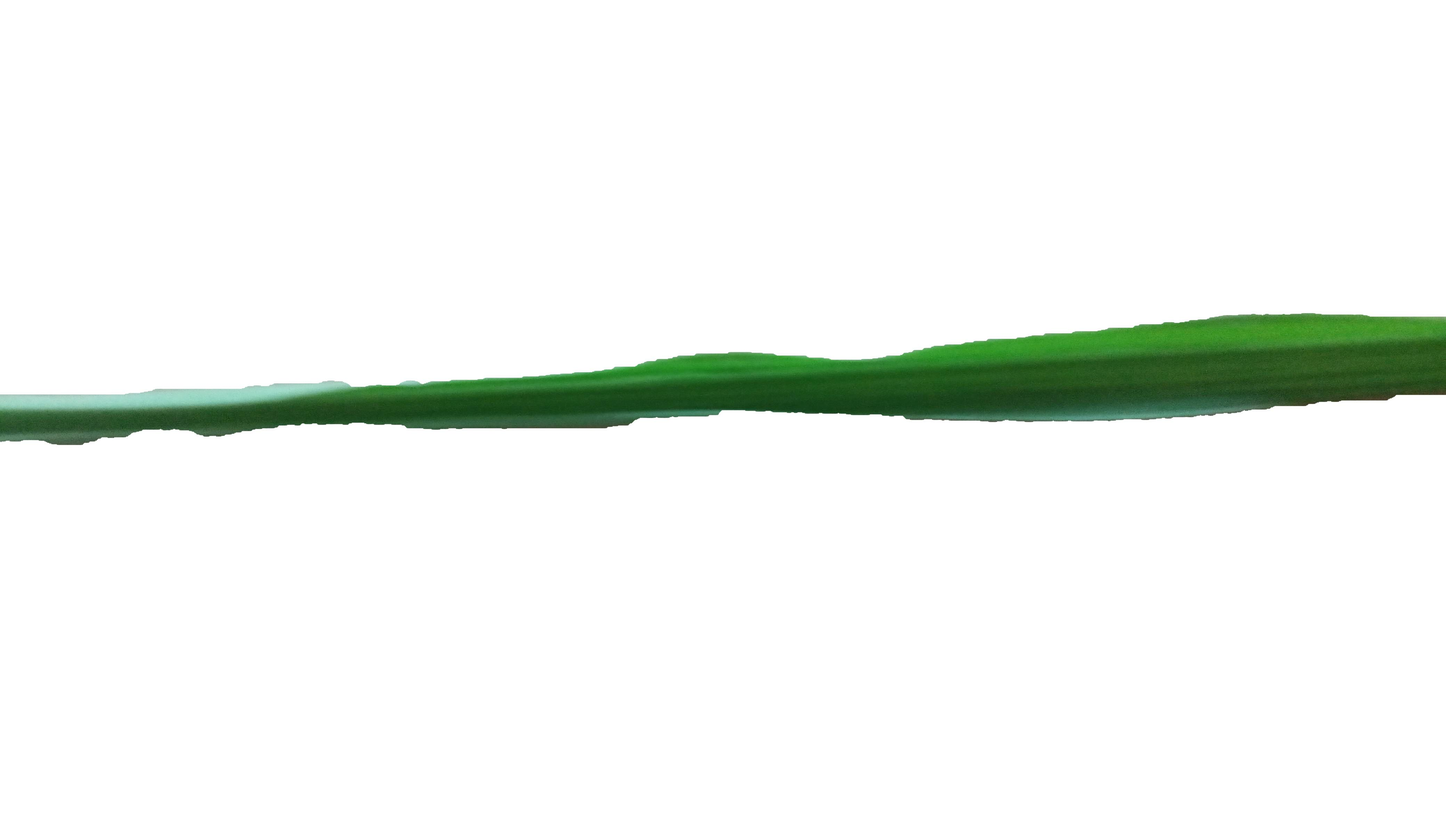Healthy: (0, 314, 1446, 447)
